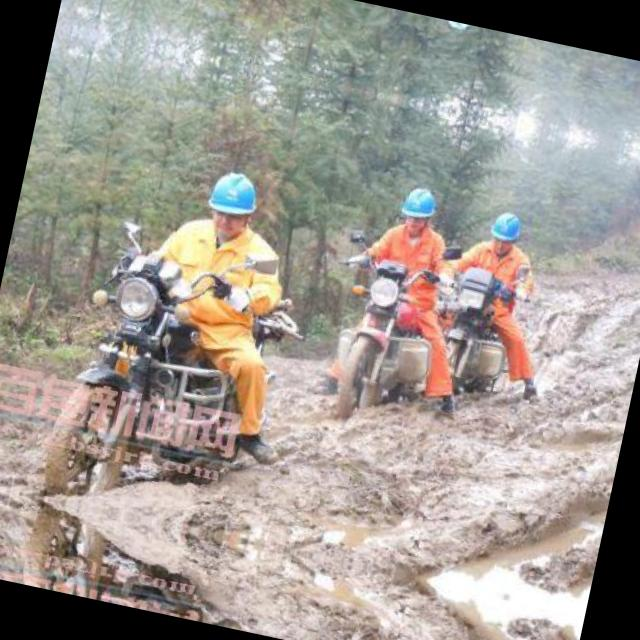helmet: (200, 162, 266, 244), (397, 179, 442, 235), (485, 205, 530, 252), (438, 18, 478, 38)
